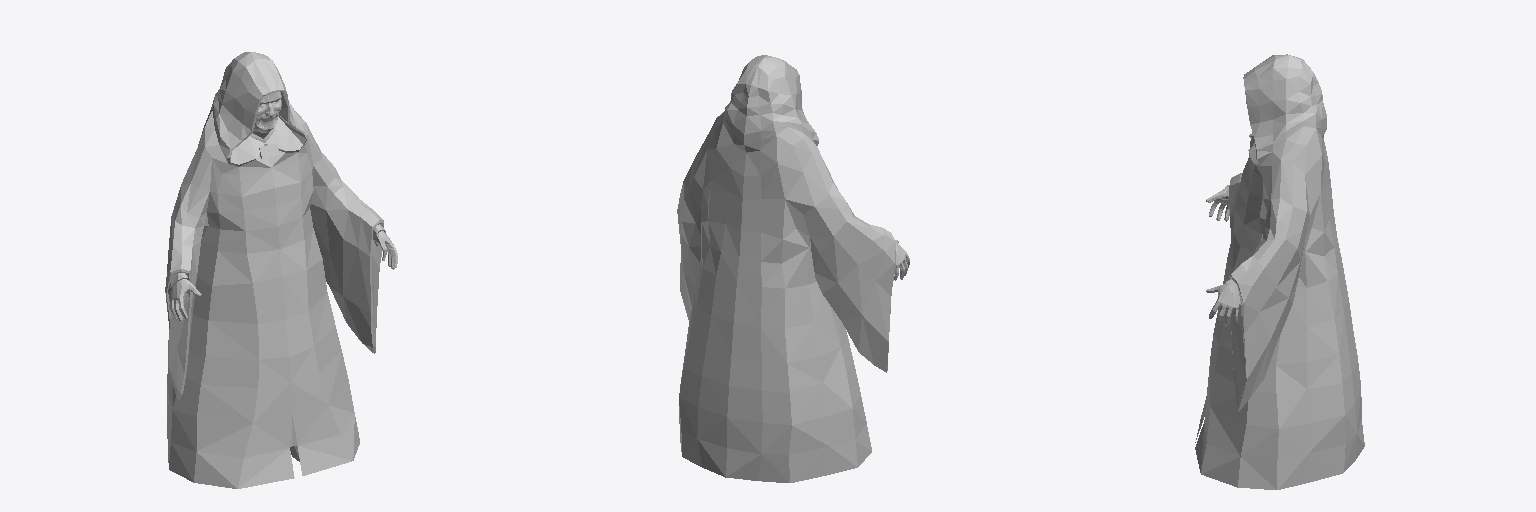
File: Emperor.obj
The picture shows the model from 3 angles: view 1: azimuth 30°, elevation 25°; view 2: azimuth 150°, elevation 25°; view 3: azimuth 270°, elevation 25°; orthographic projection.
Parts seen in each view (by area): view 1: Mesh5, Mesh2, Mesh4; view 2: Mesh5; view 3: Mesh5, Mesh2.
Boxes of the visible parts, x1,y1,x2,y2 form: Mesh5: [165, 52, 383, 488]; Mesh2: [168, 143, 397, 320]; Mesh4: [253, 92, 281, 138]; Mesh5: [677, 55, 895, 482]; Mesh5: [1195, 54, 1364, 489]; Mesh2: [1206, 136, 1254, 325].
Size of the model in its own units: 4.4 by 7.61 by 2.92.